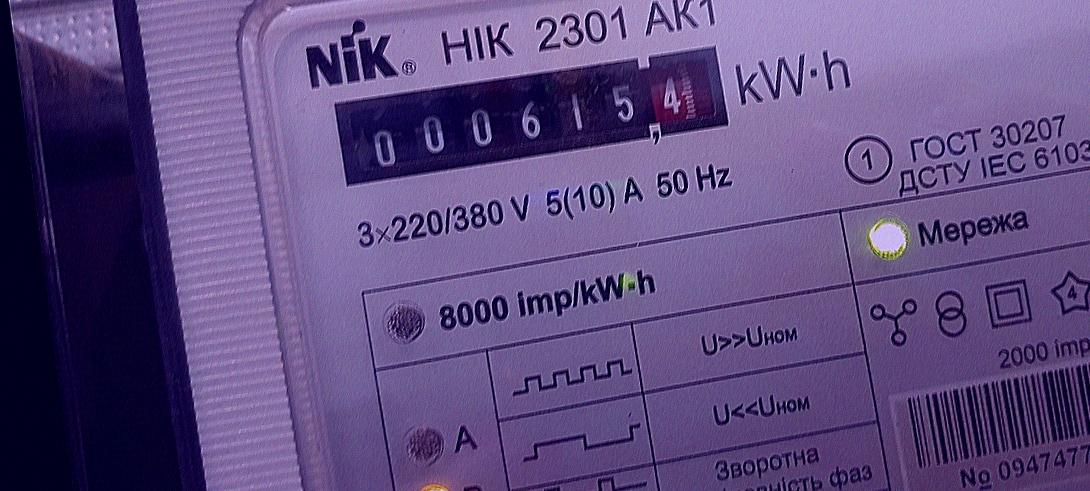0: (466, 104, 497, 149), (369, 124, 400, 168), (419, 111, 448, 154)
1: (568, 89, 586, 131)
4: (659, 73, 683, 115)
5: (610, 80, 638, 124)
6: (516, 97, 544, 140)
screen: (318, 32, 745, 198)
